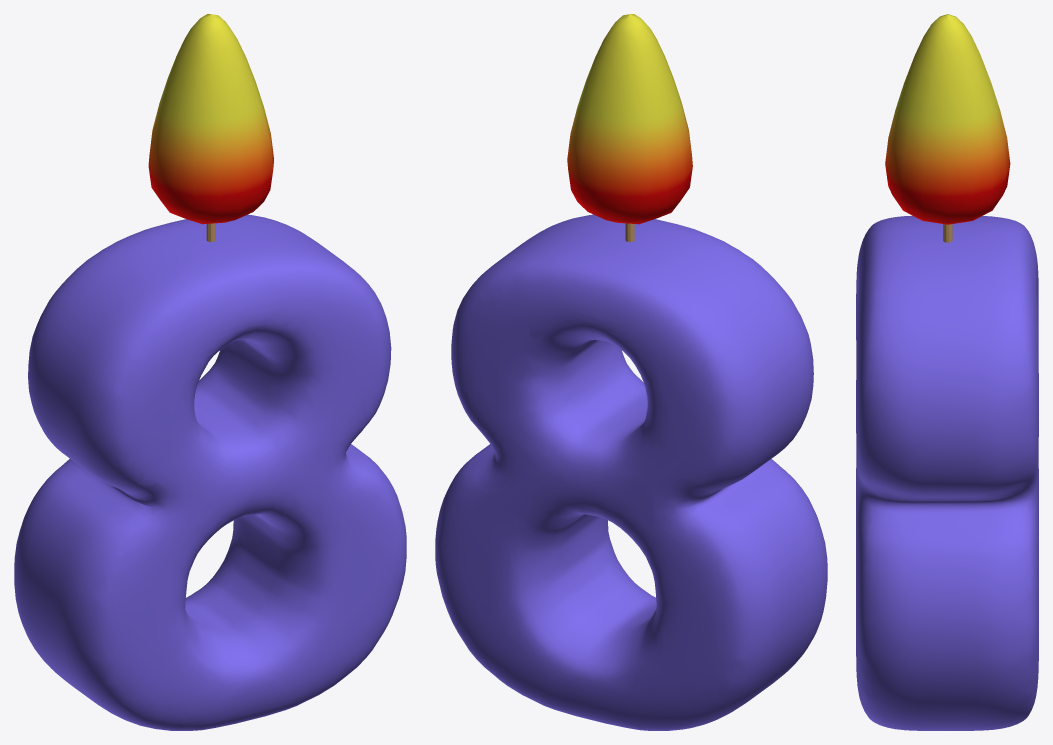
Rendered from candle_8.glb.
The picture shows the model from 3 angles, left to right: view 1: azimuth 30°, elevation 25°; view 2: azimuth 150°, elevation 25°; view 3: azimuth 270°, elevation 25°; orthographic projection.
Visible parts, largest first — view 1: candle_8, fire.008; view 2: candle_8, fire.008; view 3: candle_8, fire.008.
Part boxes in pixels (x1,y1,x2,y2): candle_8: (14, 214, 406, 730); fire.008: (148, 14, 273, 224); candle_8: (435, 214, 827, 730); fire.008: (567, 14, 692, 224); candle_8: (856, 215, 1038, 730); fire.008: (885, 14, 1010, 224).
Bounding box in the file's own units: 0.4909 × 0.9523 × 0.2291.
Materials: 1 (1 with a texture image).
